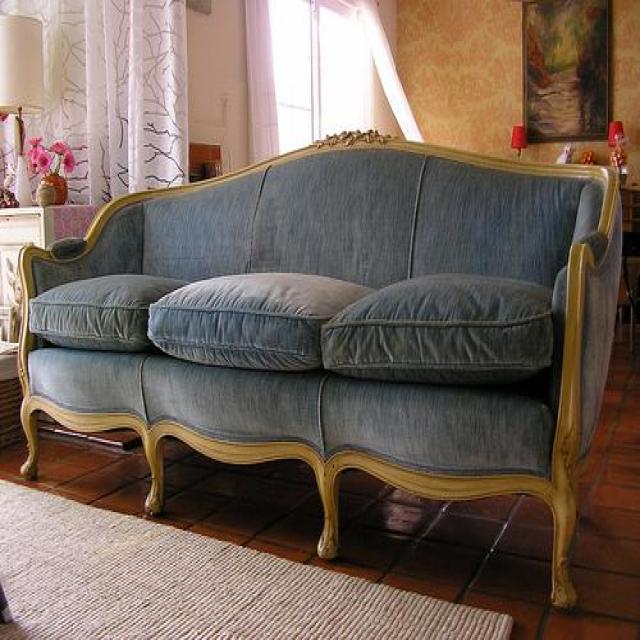sofa: (17, 123, 628, 610)
